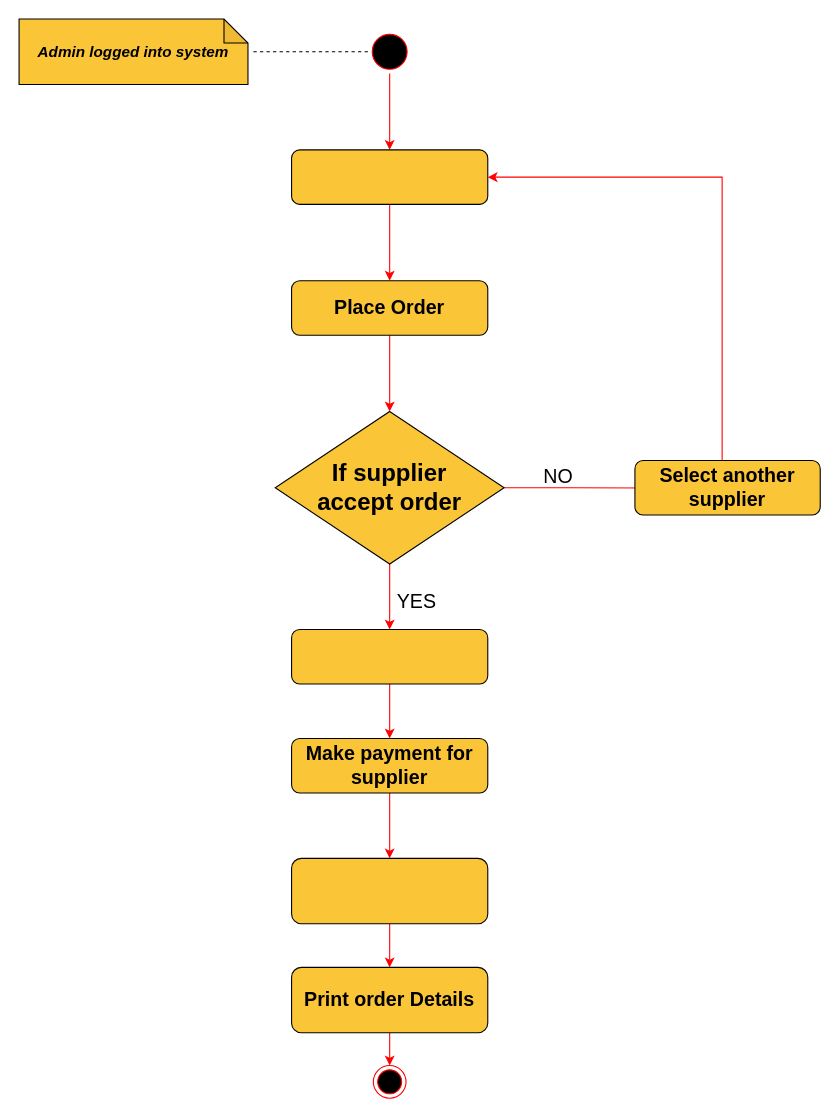
This 839x1117 diagram has some shape labels left out. The centre of each missing label's shape, as x and y in pixels:
Reciceved order confirmation: (x=389, y=656)
Recieve order: (x=389, y=890)
Select supplier: (x=389, y=176)
